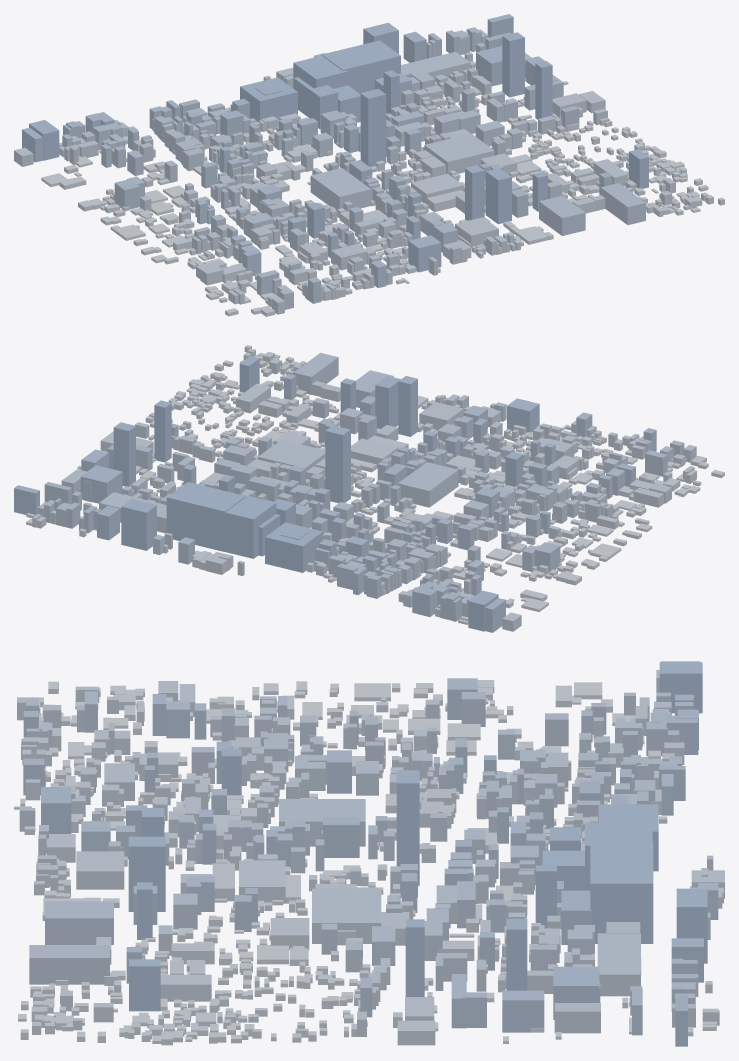
3 views of the same model, one above another, from view 1: azimuth 30°, elevation 25°; view 2: azimuth 150°, elevation 25°; view 3: azimuth 270°, elevation 25° (orthographic). The views are drawn at different scales.
Size of the model in its own units: 1174 by 156 by 977.
